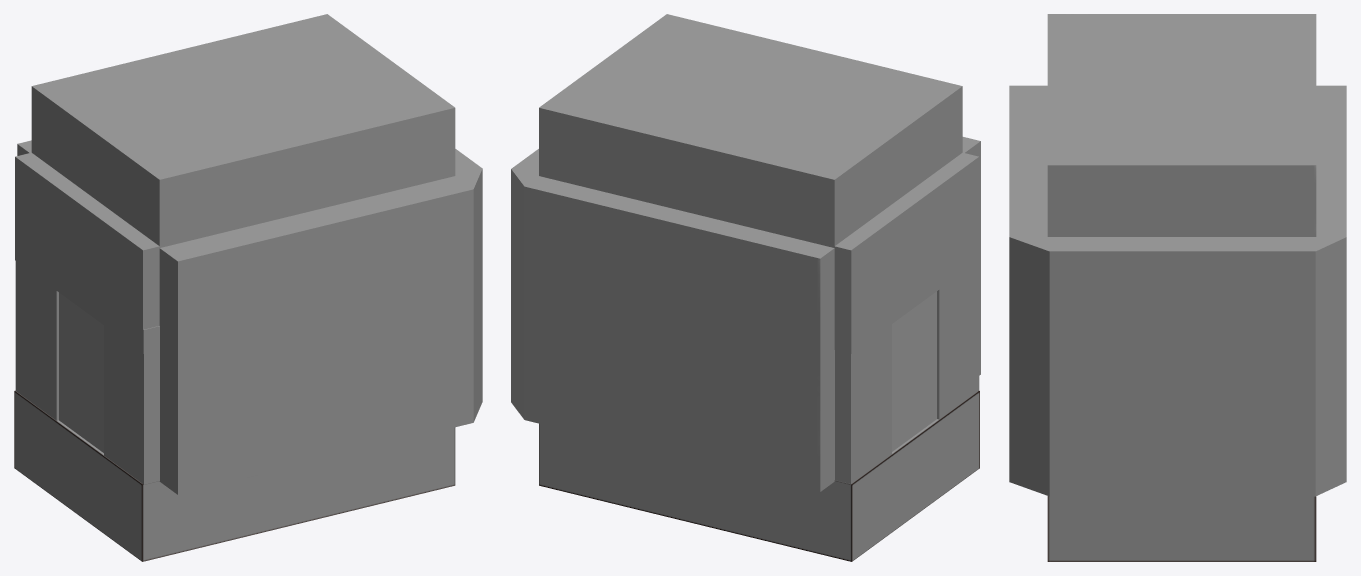
File: Start Room.fbx
3 views of the same model, side by side, from view 1: azimuth 30°, elevation 25°; view 2: azimuth 150°, elevation 25°; view 3: azimuth 270°, elevation 25° (orthographic). The views are drawn at different scales.
Visible parts, largest first — view 1: StartRoom, Door; view 2: StartRoom, Door; view 3: StartRoom.
Part boxes in pixels (x1,y1,x2,y2): StartRoom: (14,14,482,561); Door: (59,292,103,452); StartRoom: (511,14,980,561); Door: (892,291,936,451); StartRoom: (1009,14,1346,561).
Bounding box in the file's own units: 6.92 × 7.33 × 5.65.
2 materials, 1 textured.
